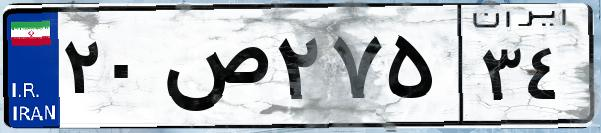0: (110, 28, 158, 98)
2: (270, 28, 330, 110), (57, 26, 110, 100)
3: (475, 38, 525, 113)
4: (525, 38, 570, 115)
5: (385, 28, 445, 110)
7: (330, 28, 385, 110)
ص: (158, 20, 270, 120)
